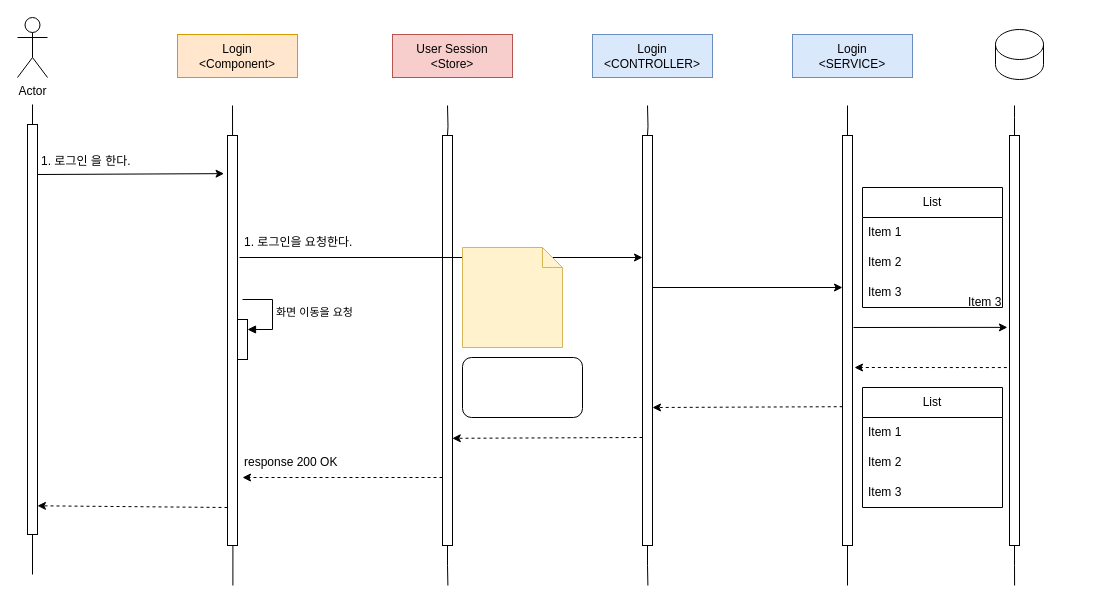
Image size: 1120x604. Some labels were removed from this diagram. Here are the shapes that lost their labels. From the top down, the centre of each, then its label:
point (1019, 54): DB
point (512, 297): Note
point (522, 387): userId, jname, role
